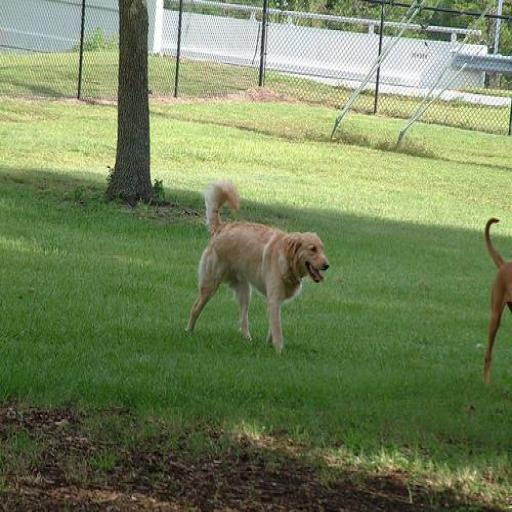dog_face: (292, 233, 337, 284)
